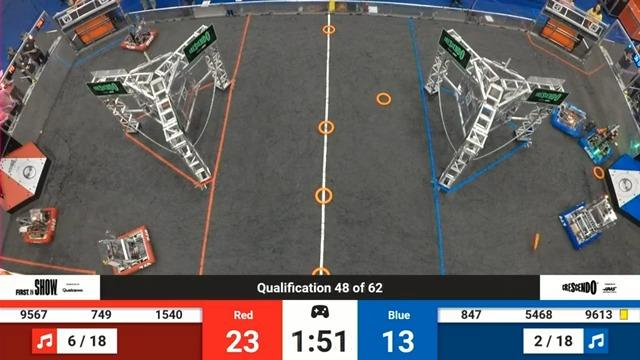robot: (91, 218, 162, 274), (556, 189, 619, 251), (14, 203, 59, 249), (116, 8, 157, 56), (548, 98, 594, 139), (578, 123, 622, 164)
